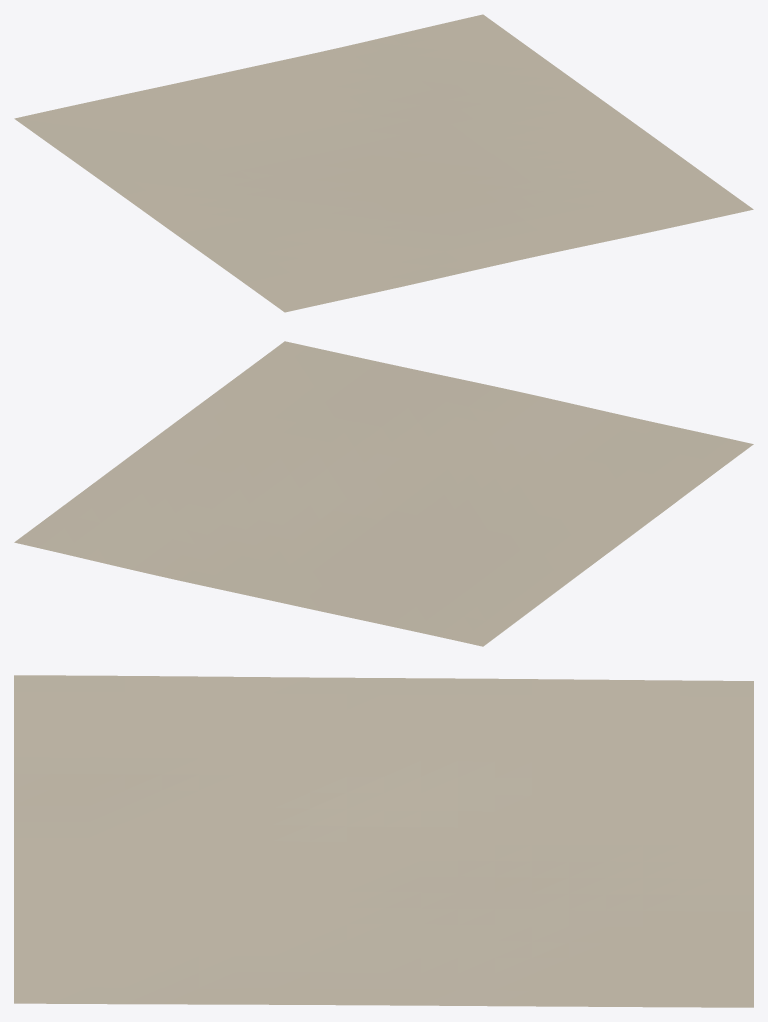
File: bolak_-17_0.glb
The picture shows the model from 3 angles, top to bottom: view 1: azimuth 30°, elevation 25°; view 2: azimuth 150°, elevation 25°; view 3: azimuth 270°, elevation 25°; orthographic projection. The views are drawn at different scales.
Parts seen in each view (by area): view 1: Yer_Tuproq-col; view 2: Yer_Tuproq-col; view 3: Yer_Tuproq-col.
Boxes of the visible parts, x1,y1,x2,y2 form: Yer_Tuproq-col: (14, 14, 753, 312); Yer_Tuproq-col: (14, 341, 753, 646); Yer_Tuproq-col: (14, 675, 753, 1007).
Size of the model in its own units: 400 by 11.84 by 400.
